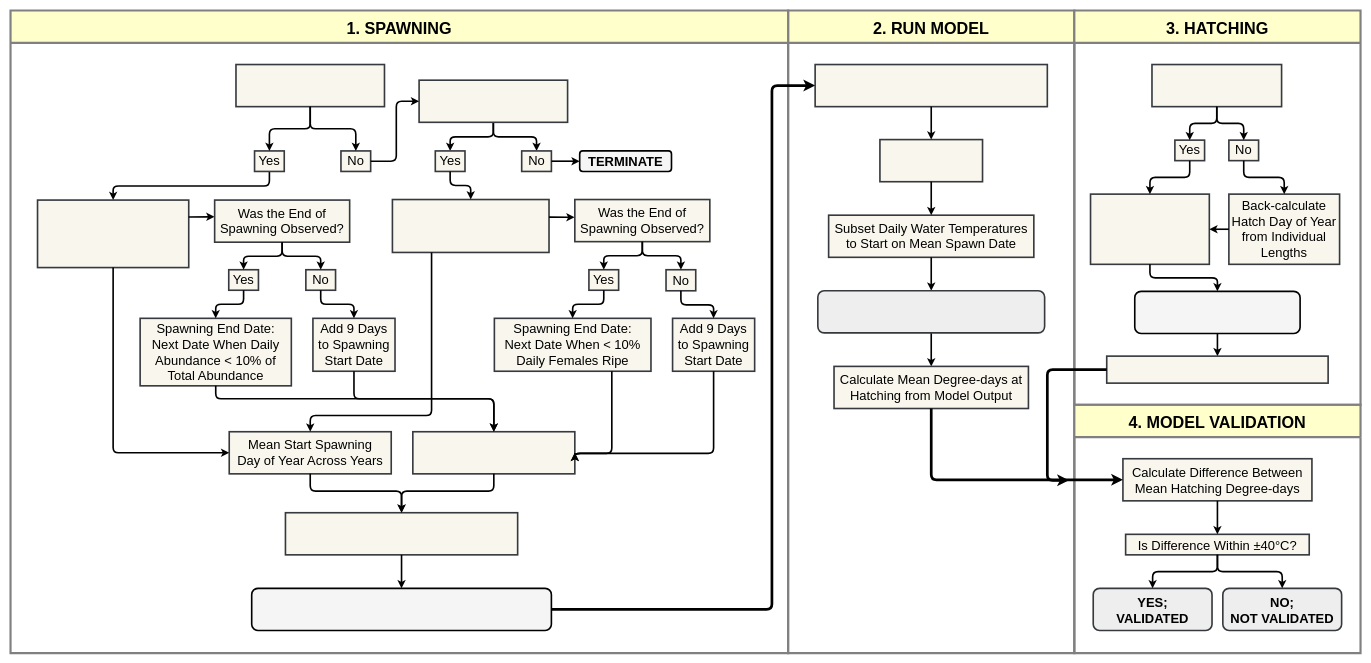
This 1371x663 diagram has some shape labels left out. Each missing label, with the centre of its shape:
"Calculate Degree-days at Hatching" belongs at (x=1217, y=369).
"Calculate Mean Spawn Date" belongs at (x=931, y=160).
"CONTEMPORARY MEAN SPAWNING START AND END WATER TEMPERATURES" belongs at (x=401, y=609).
"Define Spawning Period for Each Year from Daily Water Temperatures" belongs at (x=931, y=85).
"Do You Have Degree of Ripeness Data?" belongs at (x=493, y=101).
"Do You Have Spawner Abundance Data?" belongs at (x=310, y=85).
"Extract Lakebed Water Temperatures on Dates & Average Across Years" belongs at (x=401, y=533).
"Mean End Spawning Day of Year Across Years" belongs at (x=493, y=452).
"OBSERVED HATCHING DAY OF YEAR" belongs at (x=1217, y=312).
"Spawning Start Date: First Date When > 10% Daily Females Ripe" belongs at (x=470, y=225).
"Spawning Start Date: First Date When Daily Abundance > 10% of Total Abundance" belongs at (x=112, y=233).
"TEMPERATURE-DEPENDENT EMBRYO DEVELOPMENT MODEL" belongs at (x=931, y=311).
"Was the Start of Hatching Observed?" belongs at (x=1216, y=85).
"Weighted Mean Hatch Day of Year Based on Daily Abundance" belongs at (x=1149, y=229).
